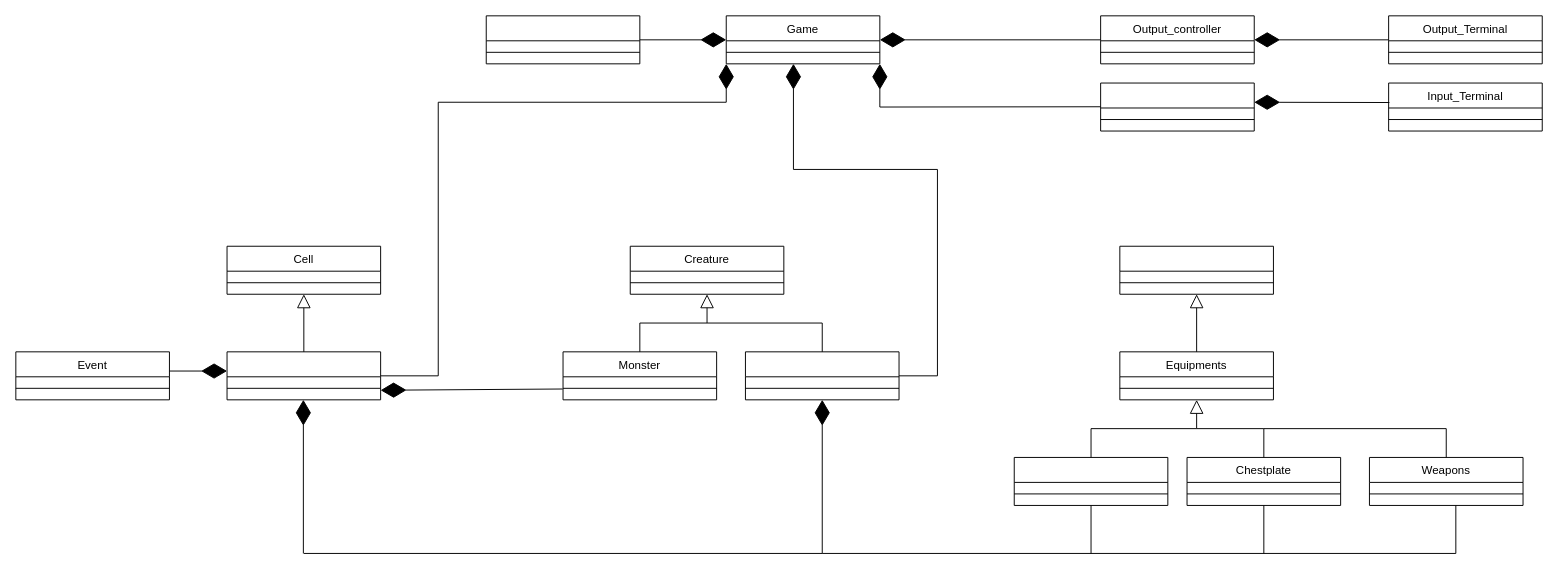
The diagram is 1558 pixels wide and 569 high, and some of its shapes have lost their labels. Here are the shapes that lost their labels. From the top down, the centre of each, then its label:
At (x=562, y=39): "Game_data".
At (x=1177, y=106): "Input_controller".
At (x=1196, y=269): "Item".
At (x=303, y=375): "Road".
At (x=821, y=375): "Hero".
At (x=1090, y=480): "Boots".
